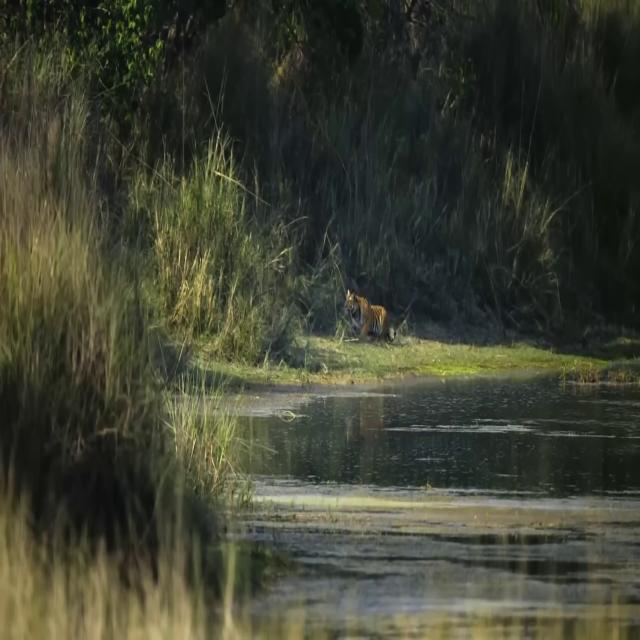tiger: (344, 288, 396, 342)
